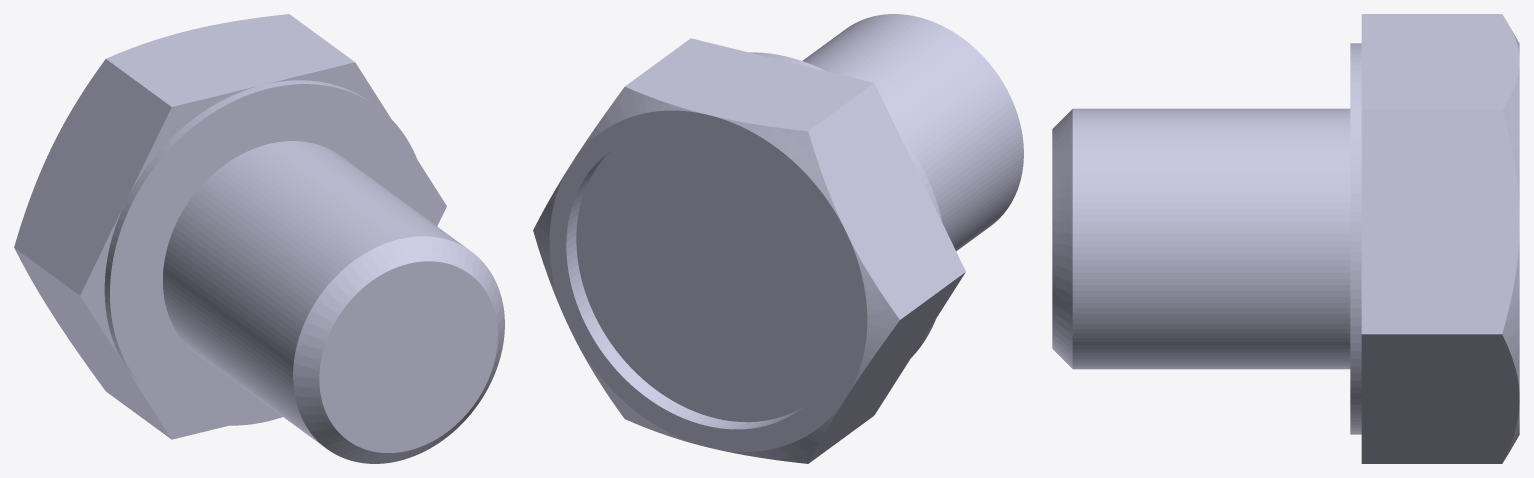
The model's file is formedhexscrew_am_b18_2_3_2mformedhexscrewm14x2_0x1616wn.dae.
3 views of the same model, side by side, from view 1: azimuth 30°, elevation 25°; view 2: azimuth 150°, elevation 25°; view 3: azimuth 270°, elevation 25° (orthographic). The views are drawn at different scales.
Visible parts, largest first — view 1: node0; view 2: node0; view 3: node0.
Boxes of the visible parts, x1,y1,x2,y2 form: node0: (14,14,504,463); node0: (533,14,1023,463); node0: (1052,14,1519,463).
Bounding box in the file's own units: 0.0242 × 0.0251 × 0.021.
